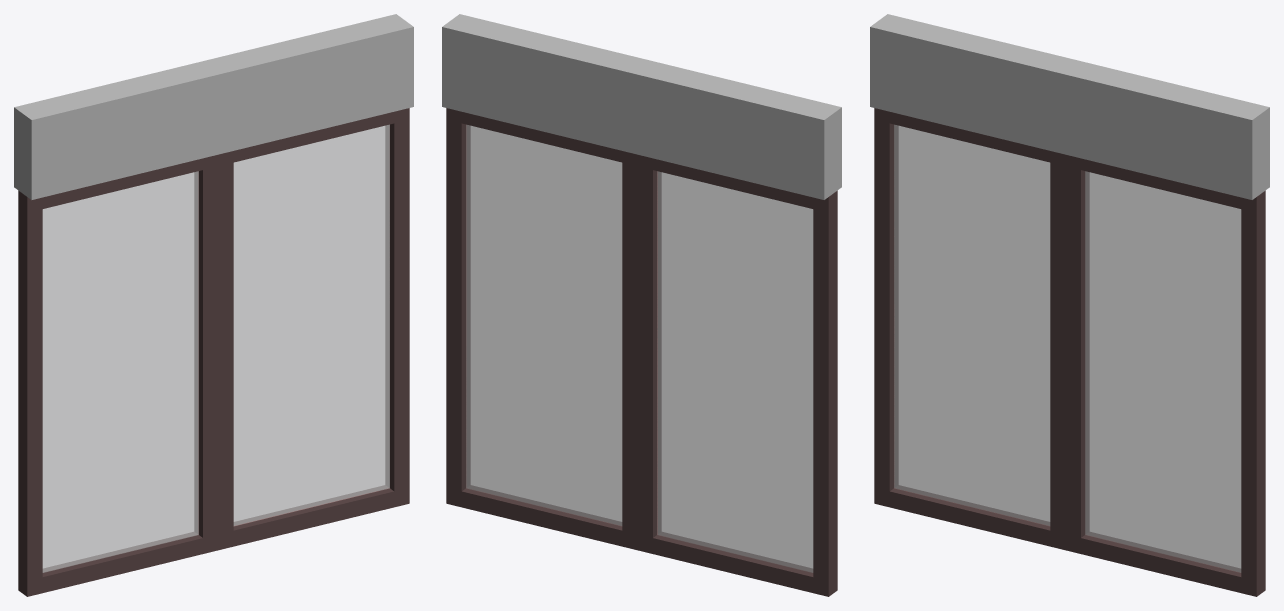
File: Window.fbx
3 views of the same model, side by side, from view 1: azimuth 30°, elevation 25°; view 2: azimuth 150°, elevation 25°; view 3: azimuth 330°, elevation 25° (orthographic).
Parts seen in each view (by area): view 1: Window; view 2: Window; view 3: Window.
Boxes of the visible parts, box(x1,y1,x2,y2) form: Window: box(14, 14, 413, 596); Window: box(442, 14, 841, 596); Window: box(870, 14, 1269, 596).
Bounding box in the file's own units: 2.5 × 3 × 0.2.
